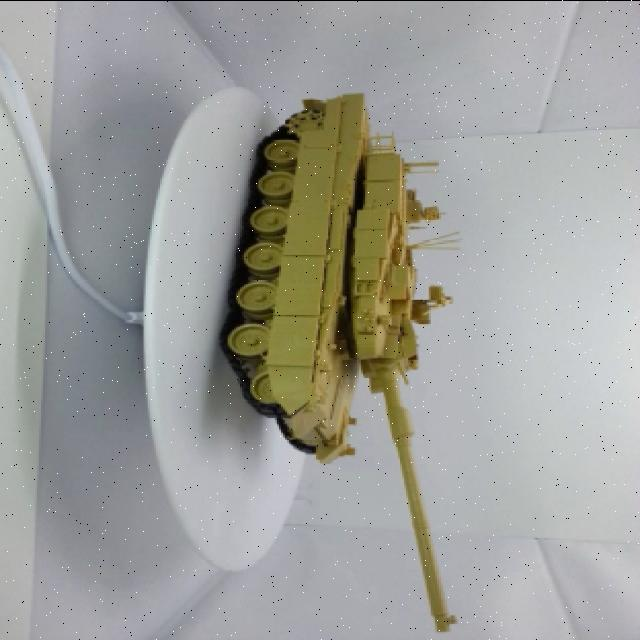korea tank: (209, 57, 472, 635)
